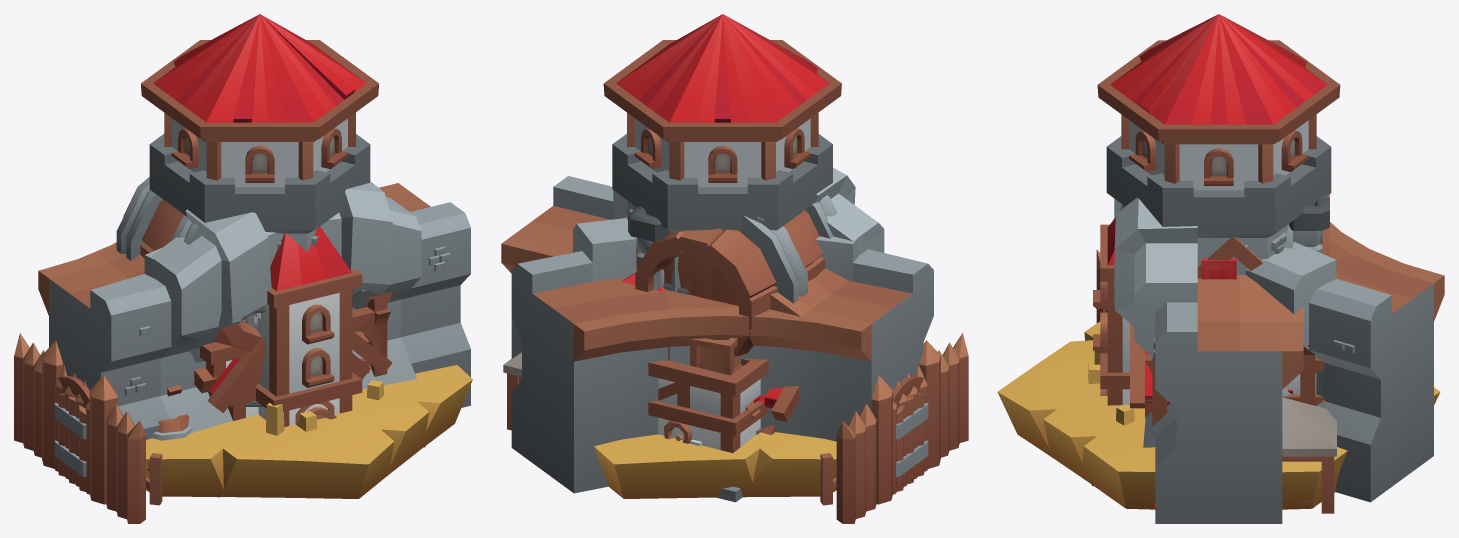
File: village.glb
3 renders of one model, left to right at view 1: azimuth 30°, elevation 25°; view 2: azimuth 150°, elevation 25°; view 3: azimuth 270°, elevation 25°, orthographic.
Parts seen in each view (by area): view 1: wall_straight_gate, building_tower_A_top_red, building_grain, building_church_red, building_tower_A_red, wall_straight, fence_wood_straight, building_tavern_red, wall_corner_A_outside, fence_wood_straight_gate, fence_wood_straight_door, building_market_red (+1 smaller); view 2: wall_corner_A_outside, building_tower_A_top_red, building_tavern_red, building_grain, building_market_red, building_tower_A_red, fence_wood_straight, wall_straight, wall_straight_gate, fence_wood_straight_gate, fence_wood_straight_door, building_home_B_red (+1 smaller); view 3: wall_corner_A_outside, building_tower_A_top_red, wall_straight, wall_straight_gate, building_grain, building_tower_A_red, building_church_red, building_market_red, building_home_B_red, building_tavern_red.
Part boxes in pixels (box(x1,y1,x2,y2)): wall_straight_gate: box(99, 181, 470, 439); building_tower_A_top_red: box(141, 14, 378, 187); building_grain: box(146, 365, 472, 498); building_church_red: box(207, 226, 392, 427); building_tower_A_red: box(149, 134, 370, 424); wall_straight: box(39, 183, 464, 428); fence_wood_straight: box(14, 333, 143, 523); building_tavern_red: box(116, 177, 392, 396); wall_corner_A_outside: box(38, 242, 161, 389); fence_wood_straight_gate: box(42, 340, 145, 522); fence_wood_straight_door: box(54, 393, 86, 491); building_market_red: box(146, 331, 425, 505); wall_corner_A_outside: box(511, 218, 933, 493); building_tower_A_top_red: box(603, 14, 841, 187); building_tavern_red: box(635, 195, 837, 443); building_grain: box(594, 432, 836, 498); building_market_red: box(503, 273, 836, 505); building_tower_A_red: box(612, 134, 832, 292); fence_wood_straight: box(840, 333, 968, 523); wall_straight: box(501, 176, 925, 331); wall_straight_gate: box(501, 167, 884, 358); fence_wood_straight_gate: box(836, 340, 958, 522); fence_wood_straight_door: box(896, 393, 928, 491); building_home_B_red: box(626, 206, 669, 290); wall_corner_A_outside: box(1245, 222, 1444, 502); building_tower_A_top_red: box(1097, 14, 1340, 190); wall_straight: box(1134, 283, 1303, 523); wall_straight_gate: box(1114, 198, 1303, 518); building_grain: box(997, 321, 1440, 509); building_tower_A_red: box(1106, 136, 1331, 395); building_church_red: box(1093, 209, 1325, 417); building_market_red: box(1091, 309, 1336, 513); building_home_B_red: box(1197, 195, 1329, 278); building_tavern_red: box(1145, 194, 1329, 426).
Size of the model in its own units: 2.07 by 2.24 by 2.11.
Materials: 1 (1 with a texture image).
